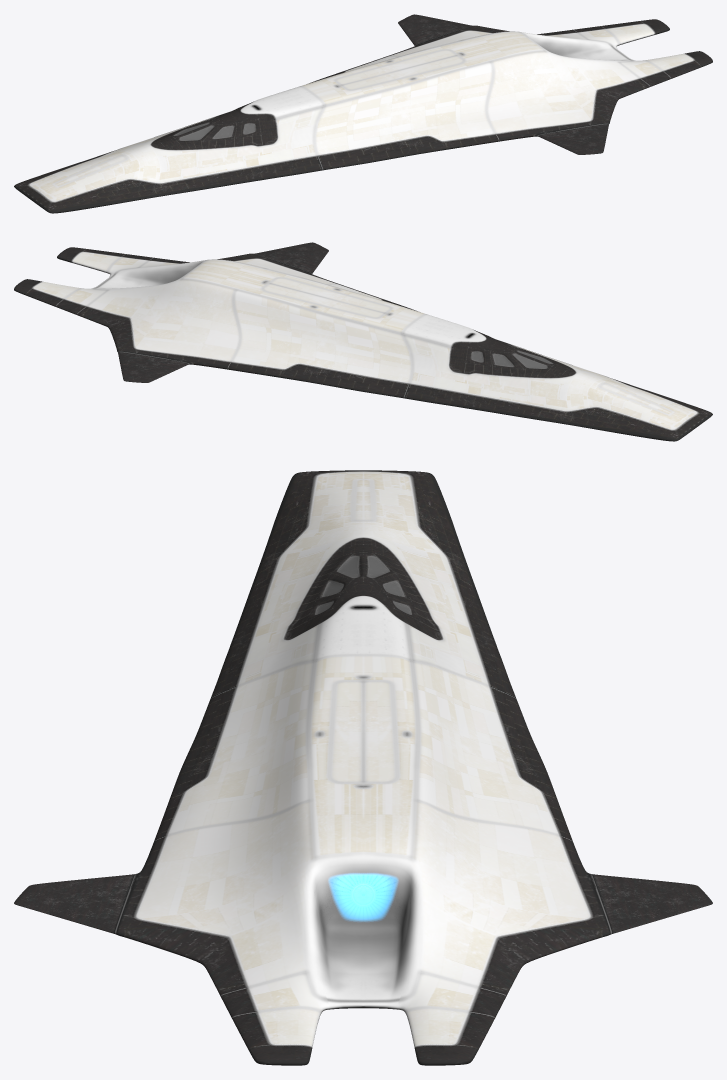
Rendered from shuttle.glb.
The picture shows the model from 3 angles, top to bottom: view 1: azimuth 30°, elevation 25°; view 2: azimuth 150°, elevation 25°; view 3: azimuth 270°, elevation 25°; orthographic projection. The views are drawn at different scales.
Visible parts, largest first — view 1: Plane_retopo; view 2: Plane_retopo; view 3: Plane_retopo.
Part boxes in pixels (box(x1,y1,x2,y2)): Plane_retopo: box(14, 14, 712, 213); Plane_retopo: box(14, 242, 712, 441); Plane_retopo: box(14, 470, 712, 1065).
Bounding box in the file's own units: 35.86 × 2.34 × 17.93.
Materials: 1 (1 with a texture image).
